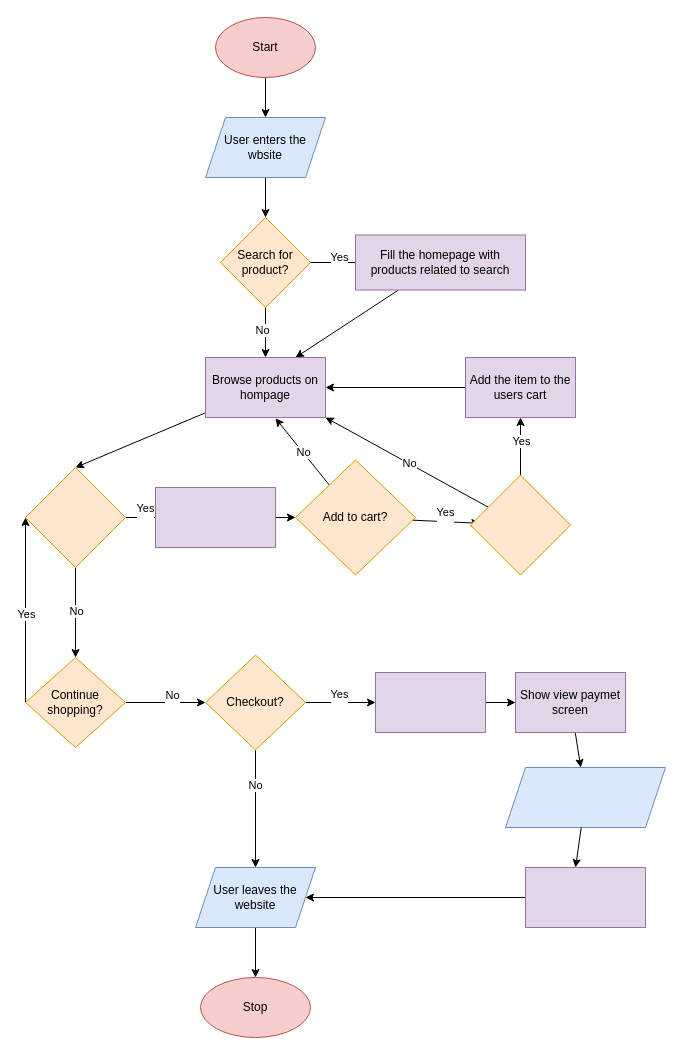
Image size: 683x1055. Some labels were removed from this diagram. Each missing label, with the centre of its shape:
Confirm?: (x=520, y=524)
Confirmation of payment screen and send email: (x=585, y=897)
Open product's webpage: (x=215, y=517)
Show view cart screen: (x=430, y=702)
User enters email and payment information: (x=585, y=797)
Veiw specific product?: (x=75, y=517)
